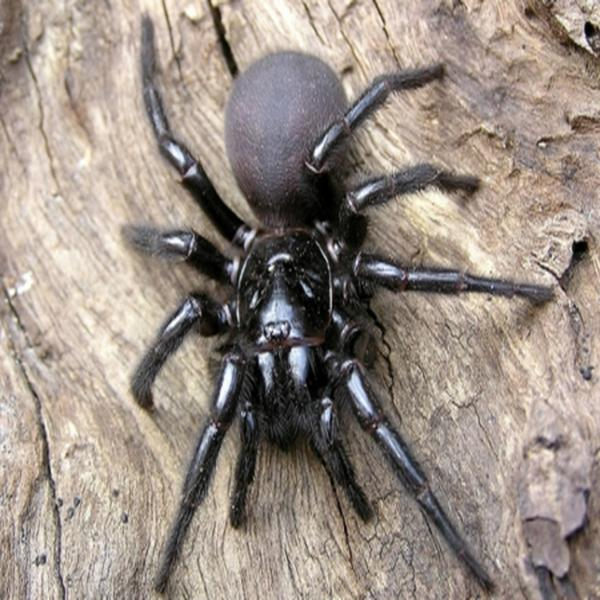Funnel Web Spider: (125, 17, 542, 579)
